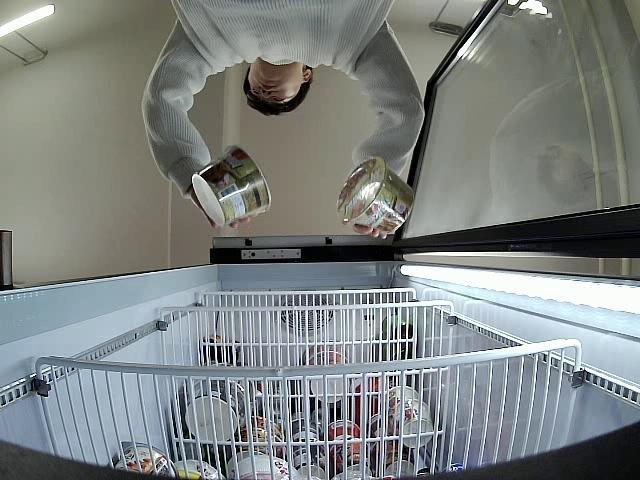03_chapagetti_L: (192, 146, 272, 228), (338, 158, 415, 235)
